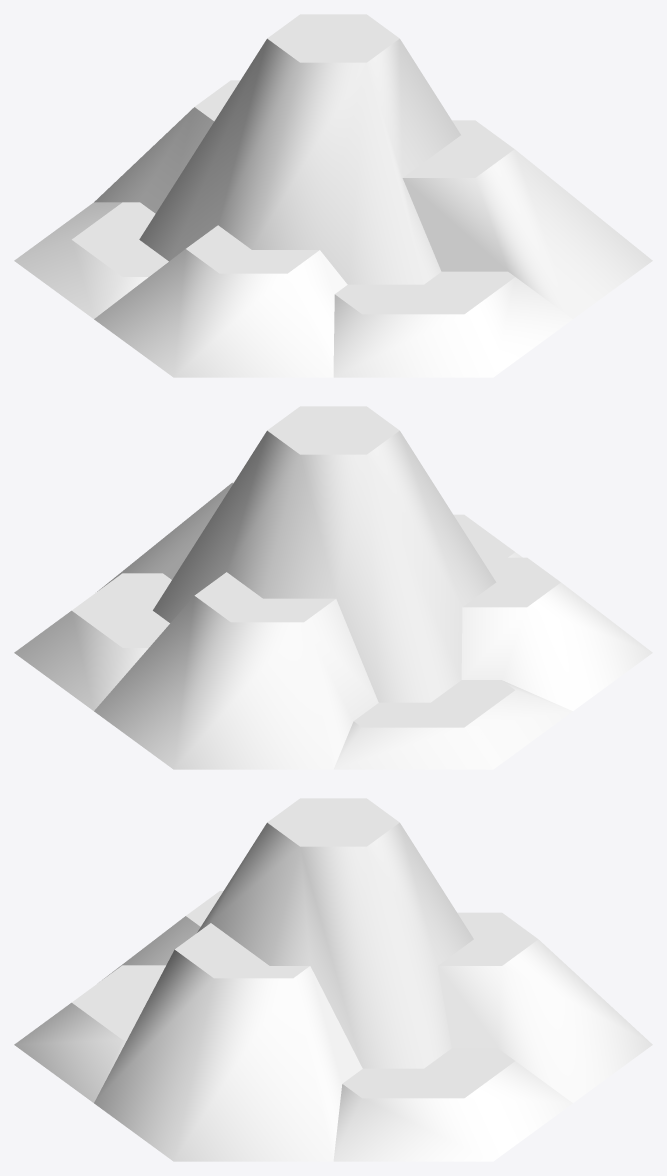
Rendered from snow_hill.glb.
The picture shows the model from 3 angles, top to bottom: view 1: azimuth 30°, elevation 25°; view 2: azimuth 150°, elevation 25°; view 3: azimuth 270°, elevation 25°; orthographic projection.
Parts seen in each view (by area): view 1: stone-hill; view 2: stone-hill; view 3: stone-hill.
Part boxes in pixels (x1,y1,x2,y2): stone-hill: (14, 14, 652, 377); stone-hill: (14, 406, 652, 769); stone-hill: (14, 798, 652, 1161).
Bounding box in the file's own units: 1 × 0.4432 × 1.15.
1 material, 1 textured.
